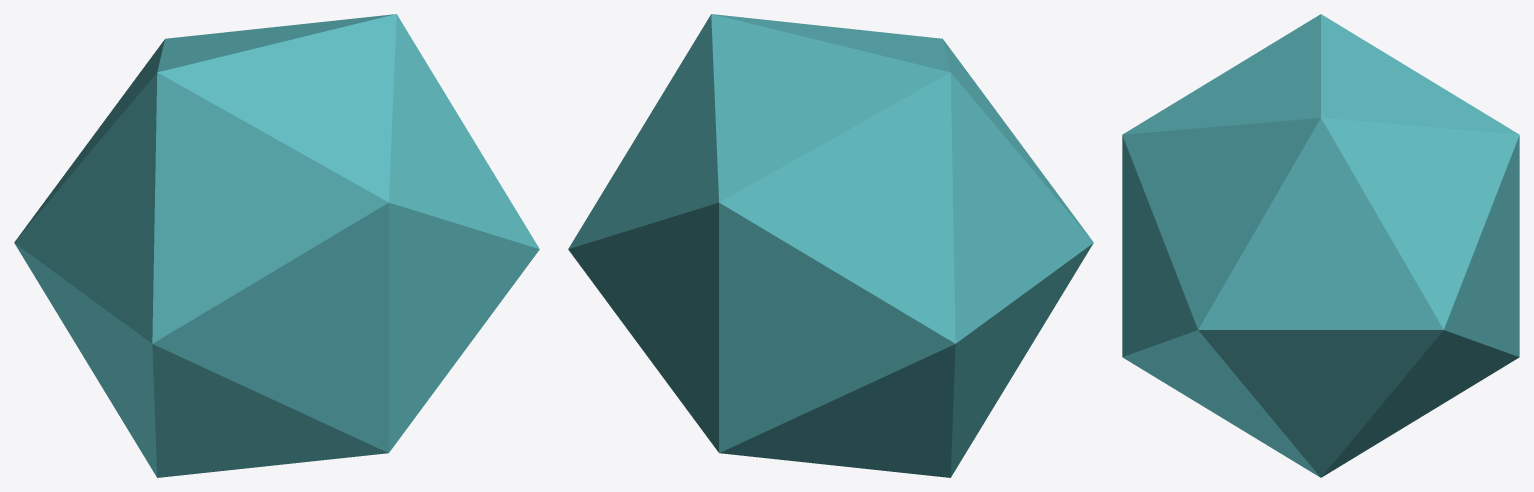
Rendered from test_icosahedron.glb.
3 renders of one model, left to right at view 1: azimuth 30°, elevation 25°; view 2: azimuth 150°, elevation 25°; view 3: azimuth 270°, elevation 25°, orthographic. The views are drawn at different scales.
Parts seen in each view (by area): view 1: world; view 2: world; view 3: world.
Part boxes in pixels (box(x1,y1,x2,y2)): world: box(14, 14, 539, 477); world: box(568, 14, 1093, 477); world: box(1122, 14, 1519, 477).
Bounding box in the file's own units: 0.2552 × 0.2552 × 0.2552.
